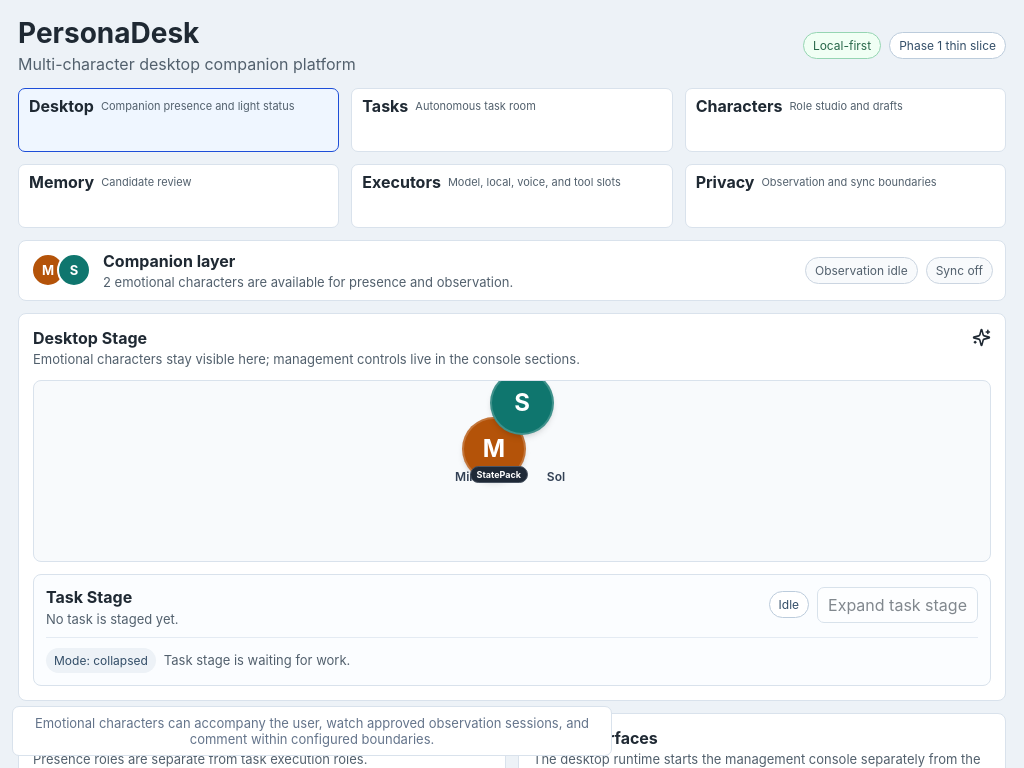
PersonaDesk app › can scan and merge detected local agents from the executor page
Click the button "Executors Model, local, voice, and tool slots" at [402, 182], box [351,164,673,228]
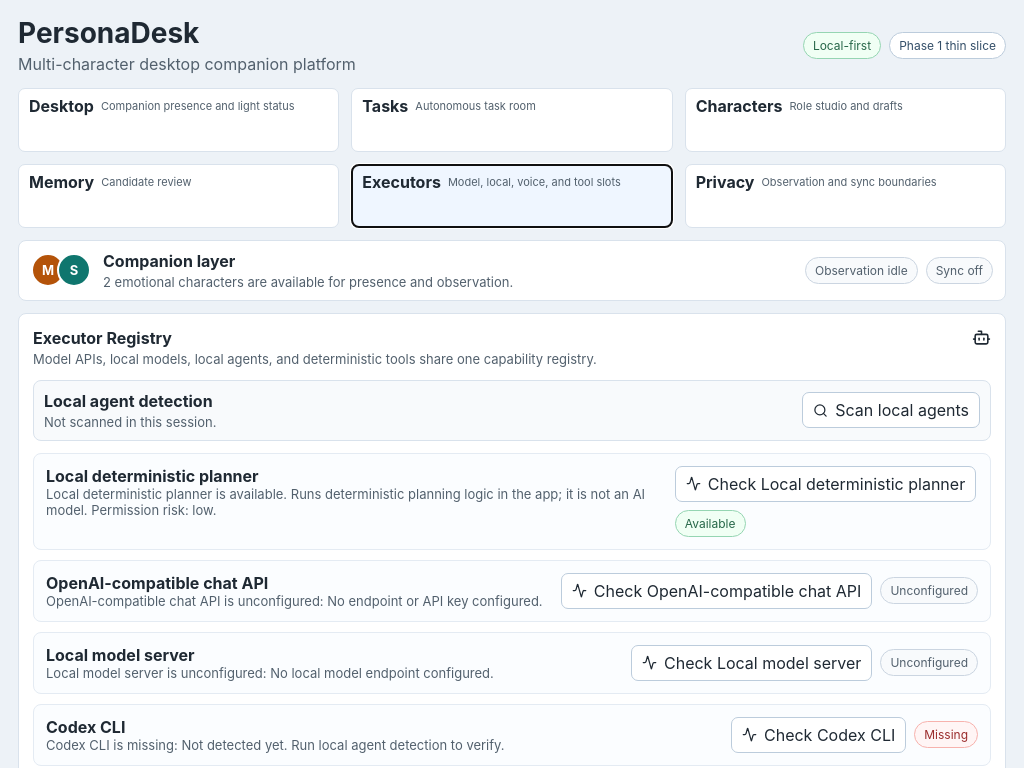
Click the button "Scan local agents" at [891, 410], box [802,392,980,428]
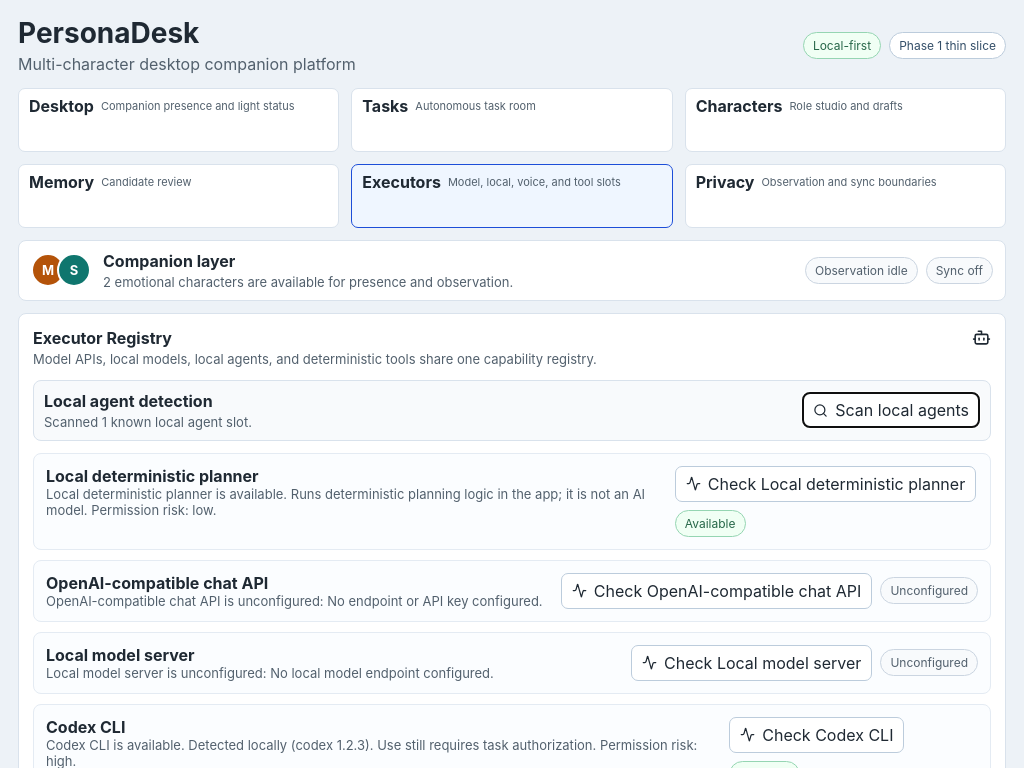
Now the text "Scanned 1 known local agent slot." is shown, box [44,414,252,430]
Now the text "Detected locally (codex 1.2.3)" is shown, box [46,737,697,767]
